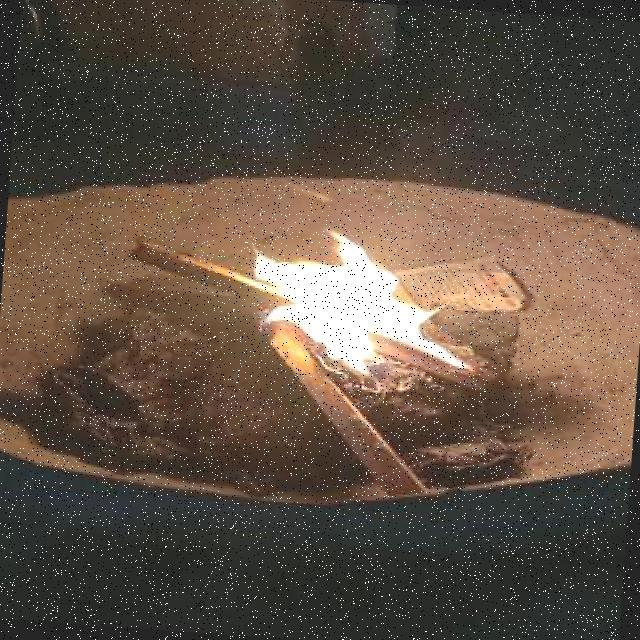Fire: (232, 216, 487, 397)
